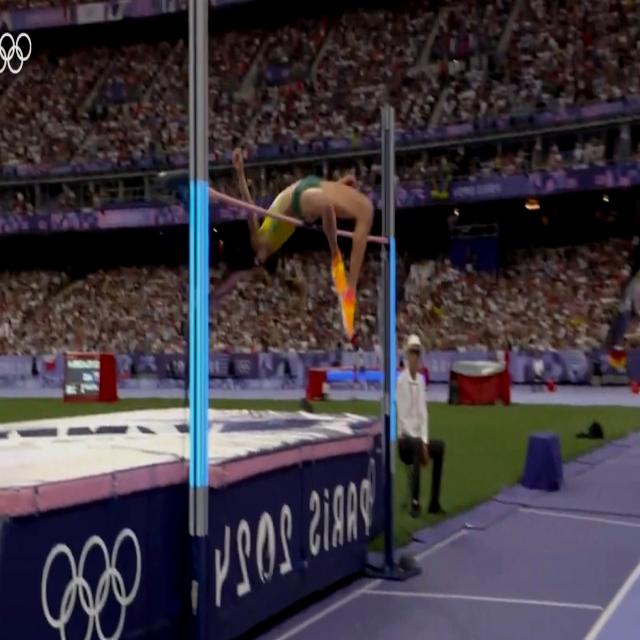jump: (235, 158, 373, 328)
